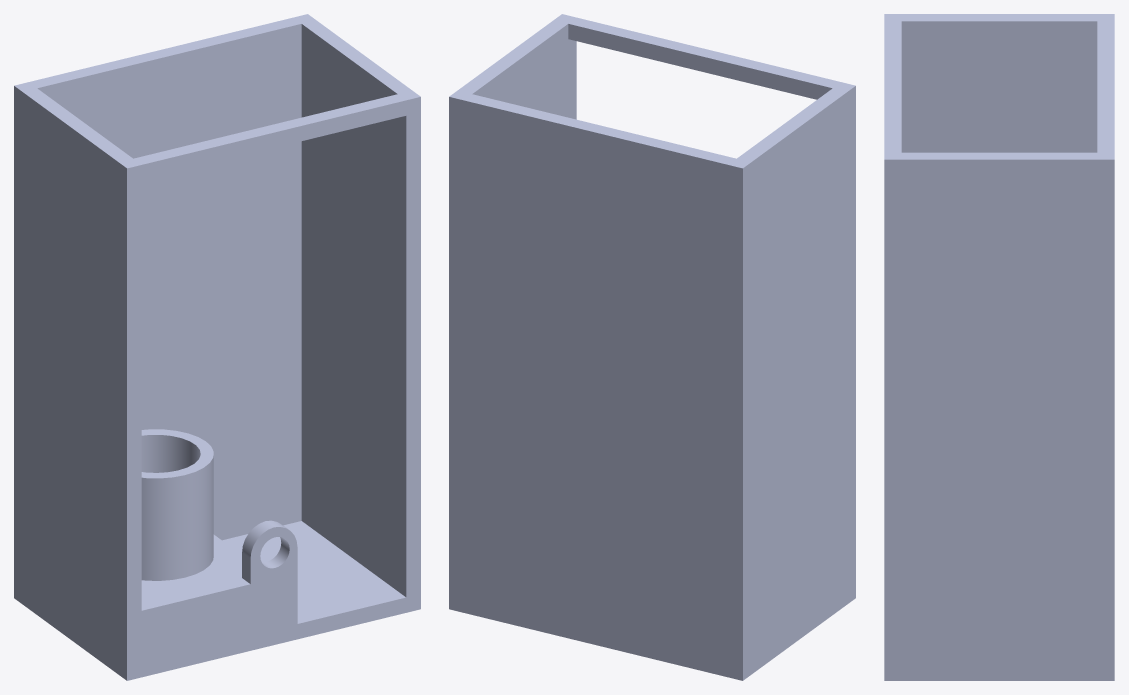
The model's file is PPcase.glb.
3 renders of one model, left to right at view 1: azimuth 30°, elevation 25°; view 2: azimuth 150°, elevation 25°; view 3: azimuth 270°, elevation 25°, orthographic.
Visible parts, largest first — view 1: PPcase; view 2: PPcase; view 3: PPcase.
Part boxes in pixels (bbox=[...]): PPcase: bbox=[14, 14, 420, 680]; PPcase: bbox=[449, 14, 855, 680]; PPcase: bbox=[884, 14, 1114, 680].
Size of the model in its own units: 0.06 by 0.1 by 0.04.
